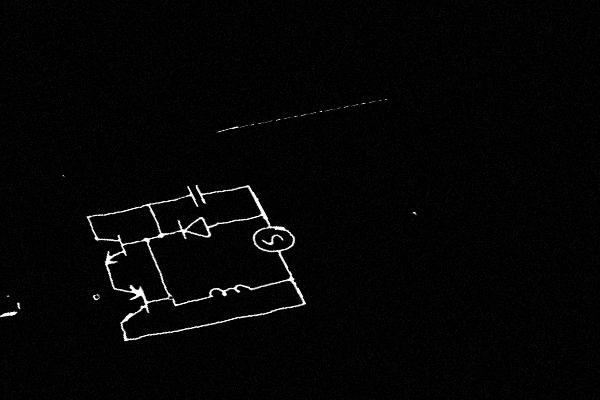capacitor: (180, 180, 213, 209)
diode: (169, 212, 218, 246)
inductor: (201, 276, 262, 304)
signal: (246, 218, 304, 261)
